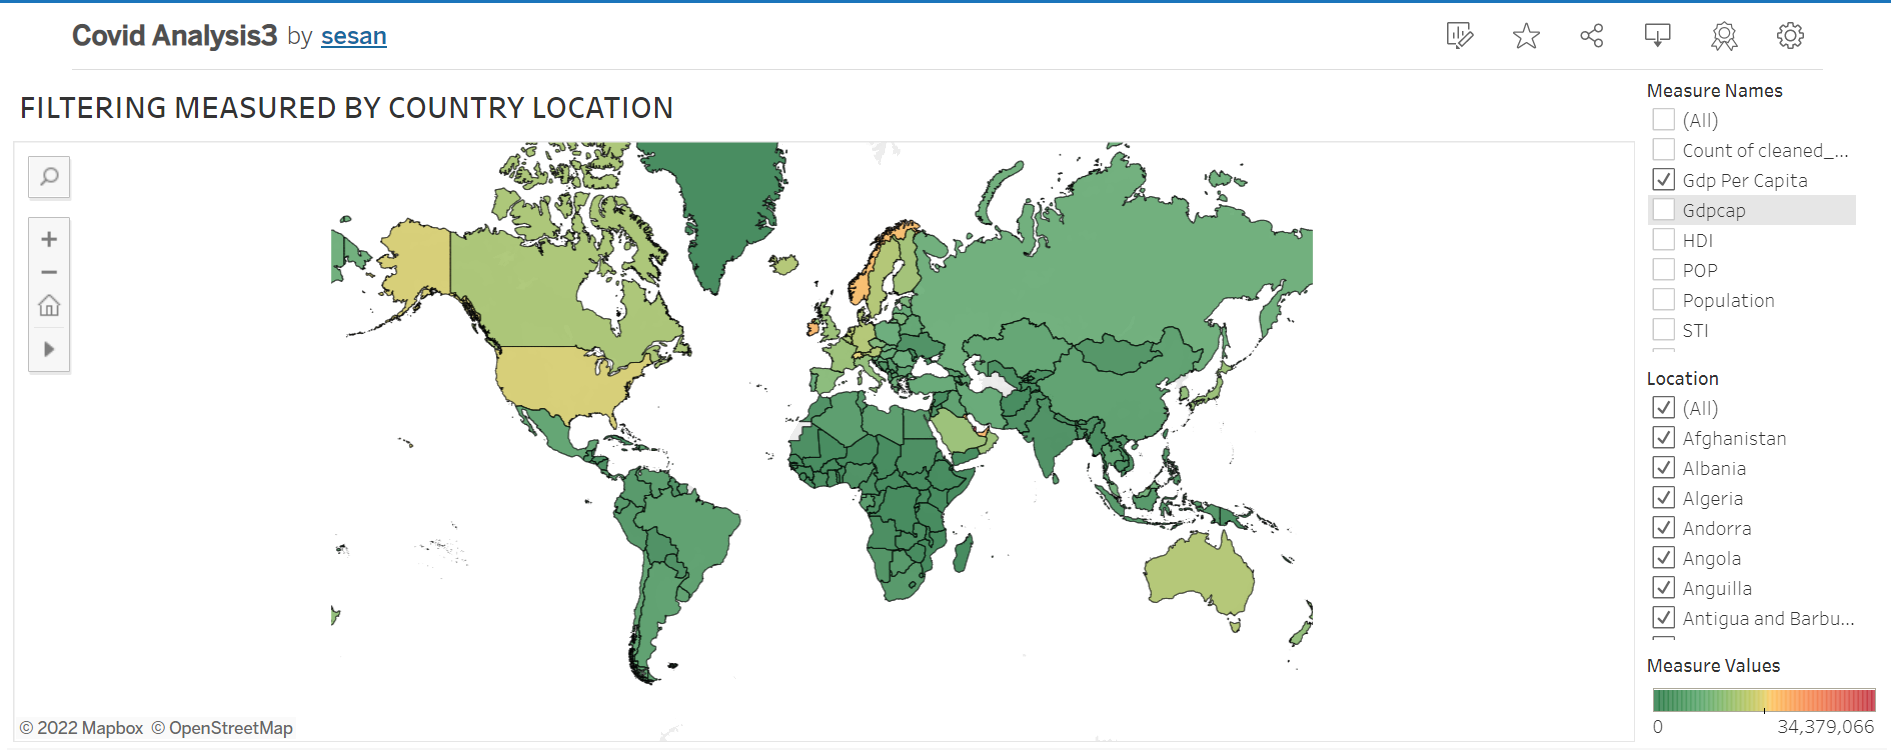

This screenshot's page, from the dashboard's own definition file:
{"tool":"tableau","page":{"name":"Dashboard 4","canvas":[1000,1000],"units":"permille","ordinal":1},"visuals":[{"type":"worksheet","title":"Sheet 1","mark":"Automatic","cols":["date"],"box":[5.2,9.9,831.6,980.2]},{"type":"filter","title":"Sheet 1","param":"[federated.1h7e9fa16st54d144zt0b0s0wyhs].[my:date:ok]","box":[836.8,9.9,158.1,302.4]},{"type":"filter","title":"Sheet 1","param":"[federated.1h7e9fa16st54d144zt0b0s0wyhs].[none:location:nk]","box":[836.8,312.3,158.1,302.4]},{"type":"filter","title":"Sheet 1","param":"[federated.1h7e9fa16st54d144zt0b0s0wyhs].[:Measure Names]","box":[836.8,614.6,158.1,302.4]},{"type":"legend","title":"Sheet 1","param":"[federated.1h7e9fa16st54d144zt0b0s0wyhs].[yr:date:ok]","box":[836.8,917,158.1,73.1]}]}

Visuals, with their boxes on the dashboard's canvas, which has no fixed pixel size, in thousandths of its width and height (x1, y1, x2, y2). These are canvas units, not pixel positions in the 1891x750 screenshot, which may show the page scaled, cropped or inside an application window:
"Sheet 1" worksheet: [5, 10, 837, 990]
"Sheet 1" filter: [837, 10, 995, 312]
"Sheet 1" filter: [837, 312, 995, 615]
"Sheet 1" filter: [837, 615, 995, 917]
"Sheet 1" legend: [837, 917, 995, 990]
